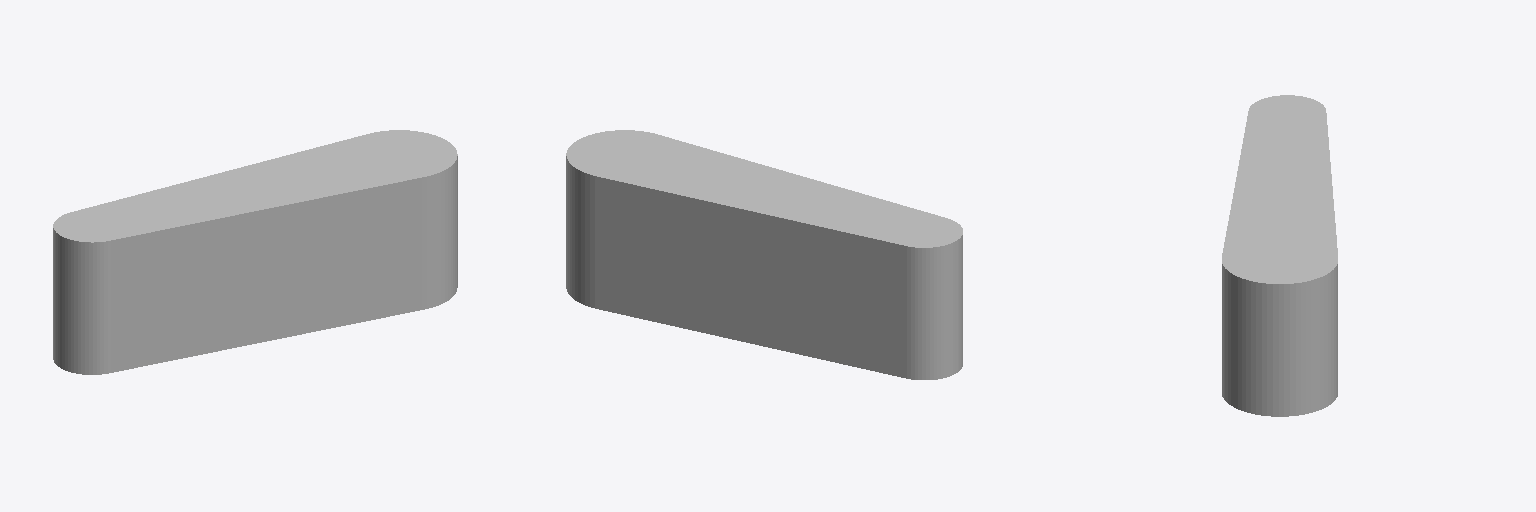
Rendered from paddleRightCollider.obj.
3 renders of one model, left to right at view 1: azimuth 30°, elevation 25°; view 2: azimuth 150°, elevation 25°; view 3: azimuth 270°, elevation 25°, orthographic.
Visible parts, largest first — view 1: PaddleLeft.005_Cylinder.050; view 2: PaddleLeft.005_Cylinder.050; view 3: PaddleLeft.005_Cylinder.050.
Part boxes in pixels (x1,y1,x2,y2): PaddleLeft.005_Cylinder.050: (53, 130, 457, 374); PaddleLeft.005_Cylinder.050: (566, 130, 962, 379); PaddleLeft.005_Cylinder.050: (1222, 95, 1337, 416).
Bounding box in the file's own units: 3.06 × 1 × 0.7998.